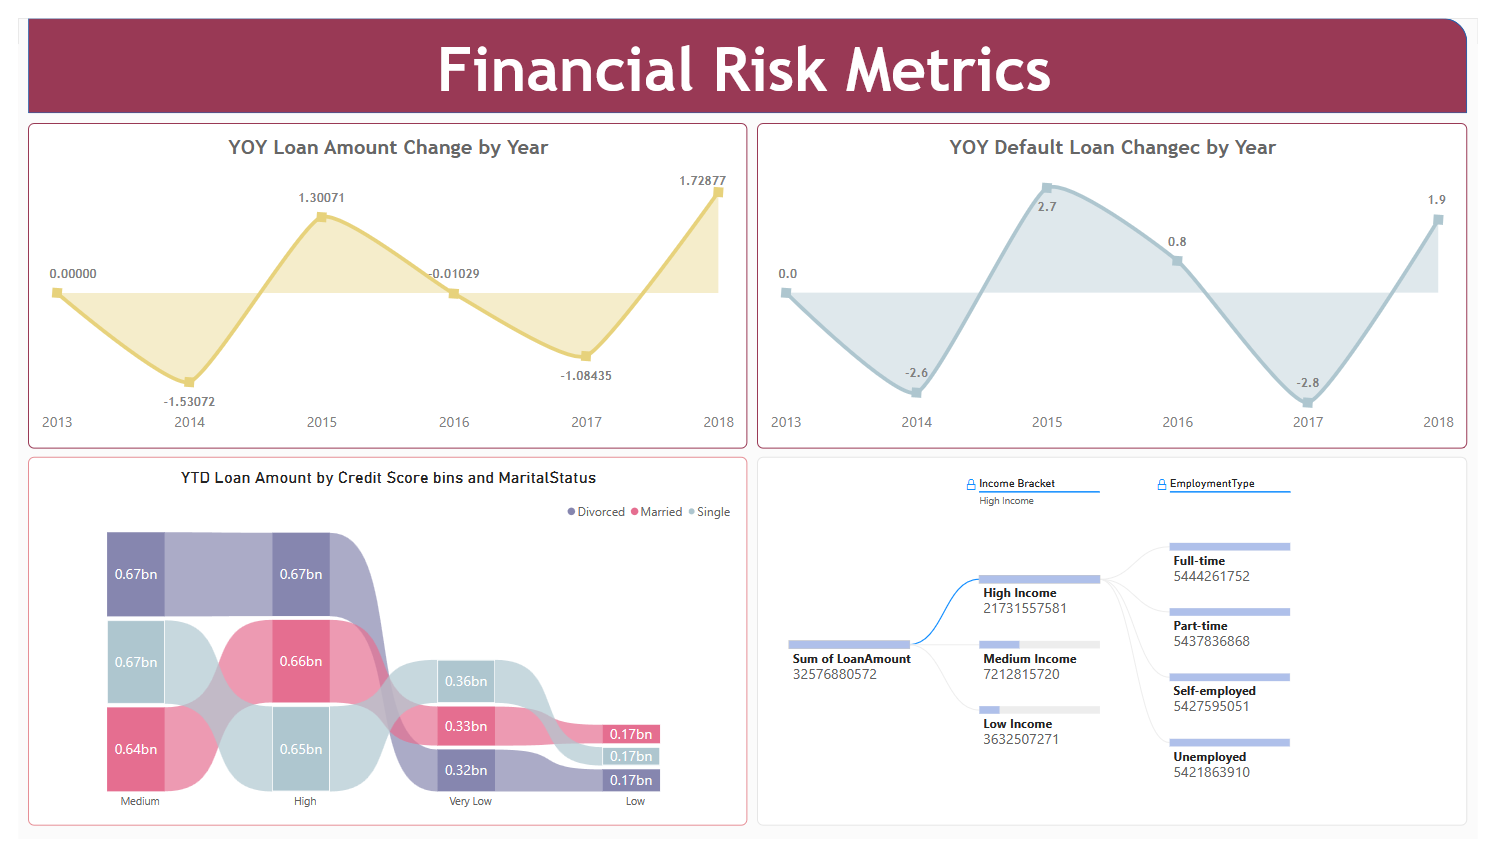

Layout of this report page (visuals, bound fields, positions):
{"tool":"powerbi","page":{"name":"Financial Risk Metrics","canvas":[1920,1080],"ordinal":2},"visuals":[{"type":"shape","box":[12.7,0,1892.9,124.9],"z":0},{"type":"lineChart","fields":{"Category":["Loan_default.Year"],"Y":["MeasuresTable3.YOY Loan Amount Change"]},"box":[12.7,137.5,946.5,428.9],"z":1},{"type":"lineChart","fields":{"Category":["Loan_default.Year"],"Y":["MeasuresTable3.YOY Default Loan Changec"]},"box":[971.8,137.5,933.8,428.9],"z":2},{"type":"ribbonChart","fields":{"Category":["Loan_default.Credit Score bins"],"Series":["Loan_default.MaritalStatus"],"Y":["MeasuresTable3.YTD Loan Amount"]},"box":[12.7,577.3,946.5,485],"z":3},{"type":"decompositionTreeVisual","fields":{"Analyze":["Sum(Loan_default.LoanAmount)"],"ExplainBy":["Loan_default.Income Bracket","Loan_default.EmploymentType"]},"box":[971.8,577.3,933.8,485],"z":4}]}

Visuals, with their boxes in screenshot pixels (x1, y1, x2, y2), scaled from the page's 1920x1080 canvas onto the 1495x855 screenshot:
shape: l=10, t=0, r=1484, b=99
lineChart - Loan_default.Year x MeasuresTable3.YOY Loan Amount Change: l=10, t=109, r=747, b=448
lineChart - Loan_default.Year x MeasuresTable3.YOY Default Loan Changec: l=757, t=109, r=1484, b=448
ribbonChart - Loan_default.Credit Score bins x Loan_default.MaritalStatus: l=10, t=457, r=747, b=841
decompositionTreeVisual - Sum(Loan_default.LoanAmount) x Loan_default.Income Bracket: l=757, t=457, r=1484, b=841
